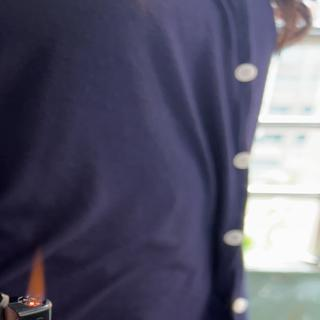fire: (22, 252, 50, 306)
